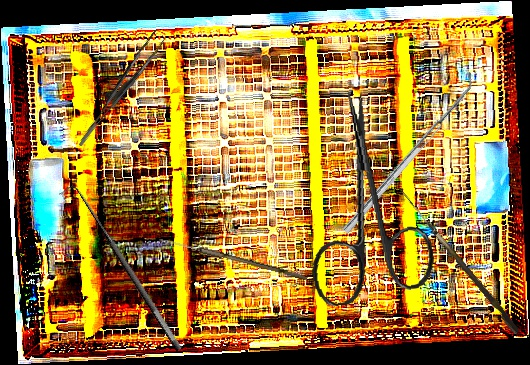Hook Surgical: (59, 180, 185, 360), (395, 191, 523, 335)
Iris Scissors: (291, 83, 438, 309)
Spatula Surgical: (336, 71, 481, 235)
Surgical Spoon: (158, 236, 309, 281)
Tissue Forceps: (61, 28, 177, 147)
